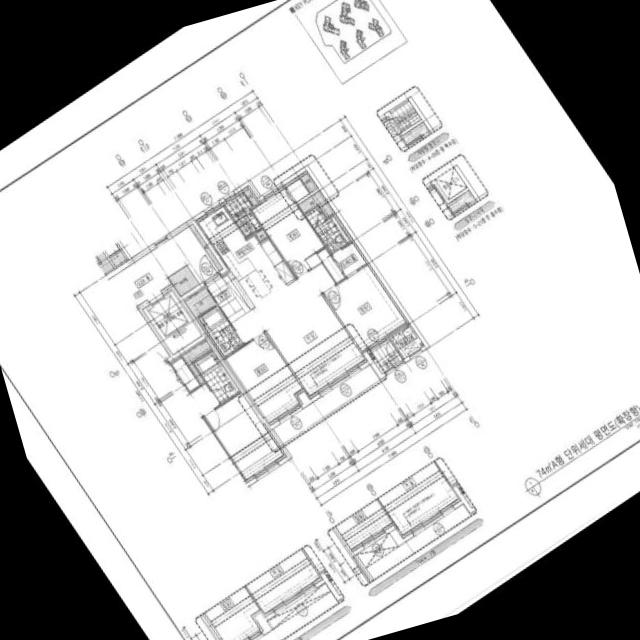background: (0, 0, 640, 640)
space_balconi: (223, 190, 261, 236), (369, 338, 402, 373)
space_bedroom: (323, 263, 408, 352), (224, 332, 304, 425), (252, 176, 324, 276)
space_dressroom: (317, 242, 366, 282)
space_elevator: (142, 289, 202, 354)
space_elevator_hall: (108, 226, 219, 361)
space_front: (204, 272, 251, 322)
space_kitchen: (195, 203, 296, 306)
space_living_room: (231, 262, 367, 398)
space_other: (189, 223, 223, 270), (184, 286, 216, 317), (298, 190, 334, 217), (168, 265, 199, 296), (299, 170, 318, 192), (242, 185, 259, 205), (255, 229, 267, 240)
space_outdoor_room: (390, 324, 424, 358)
space_toilet: (198, 305, 244, 356), (304, 205, 350, 253)
